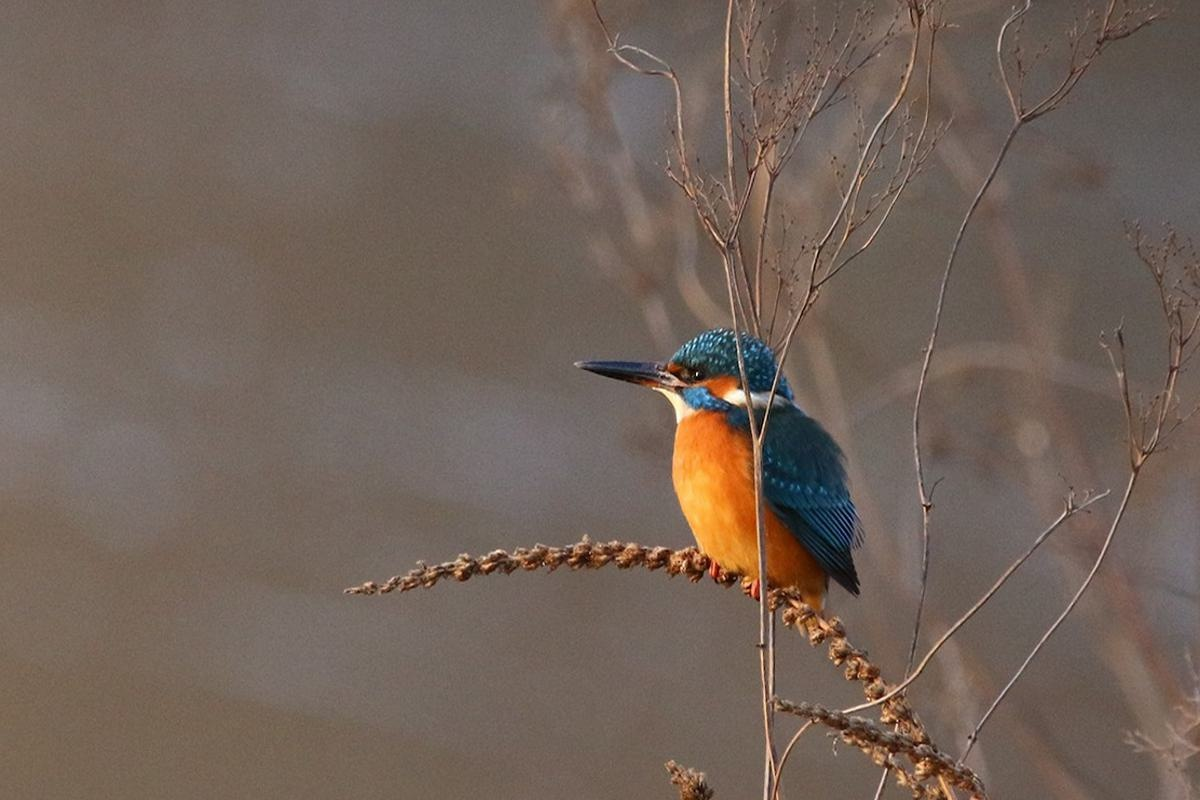kingfisher: (557, 317, 896, 653)
